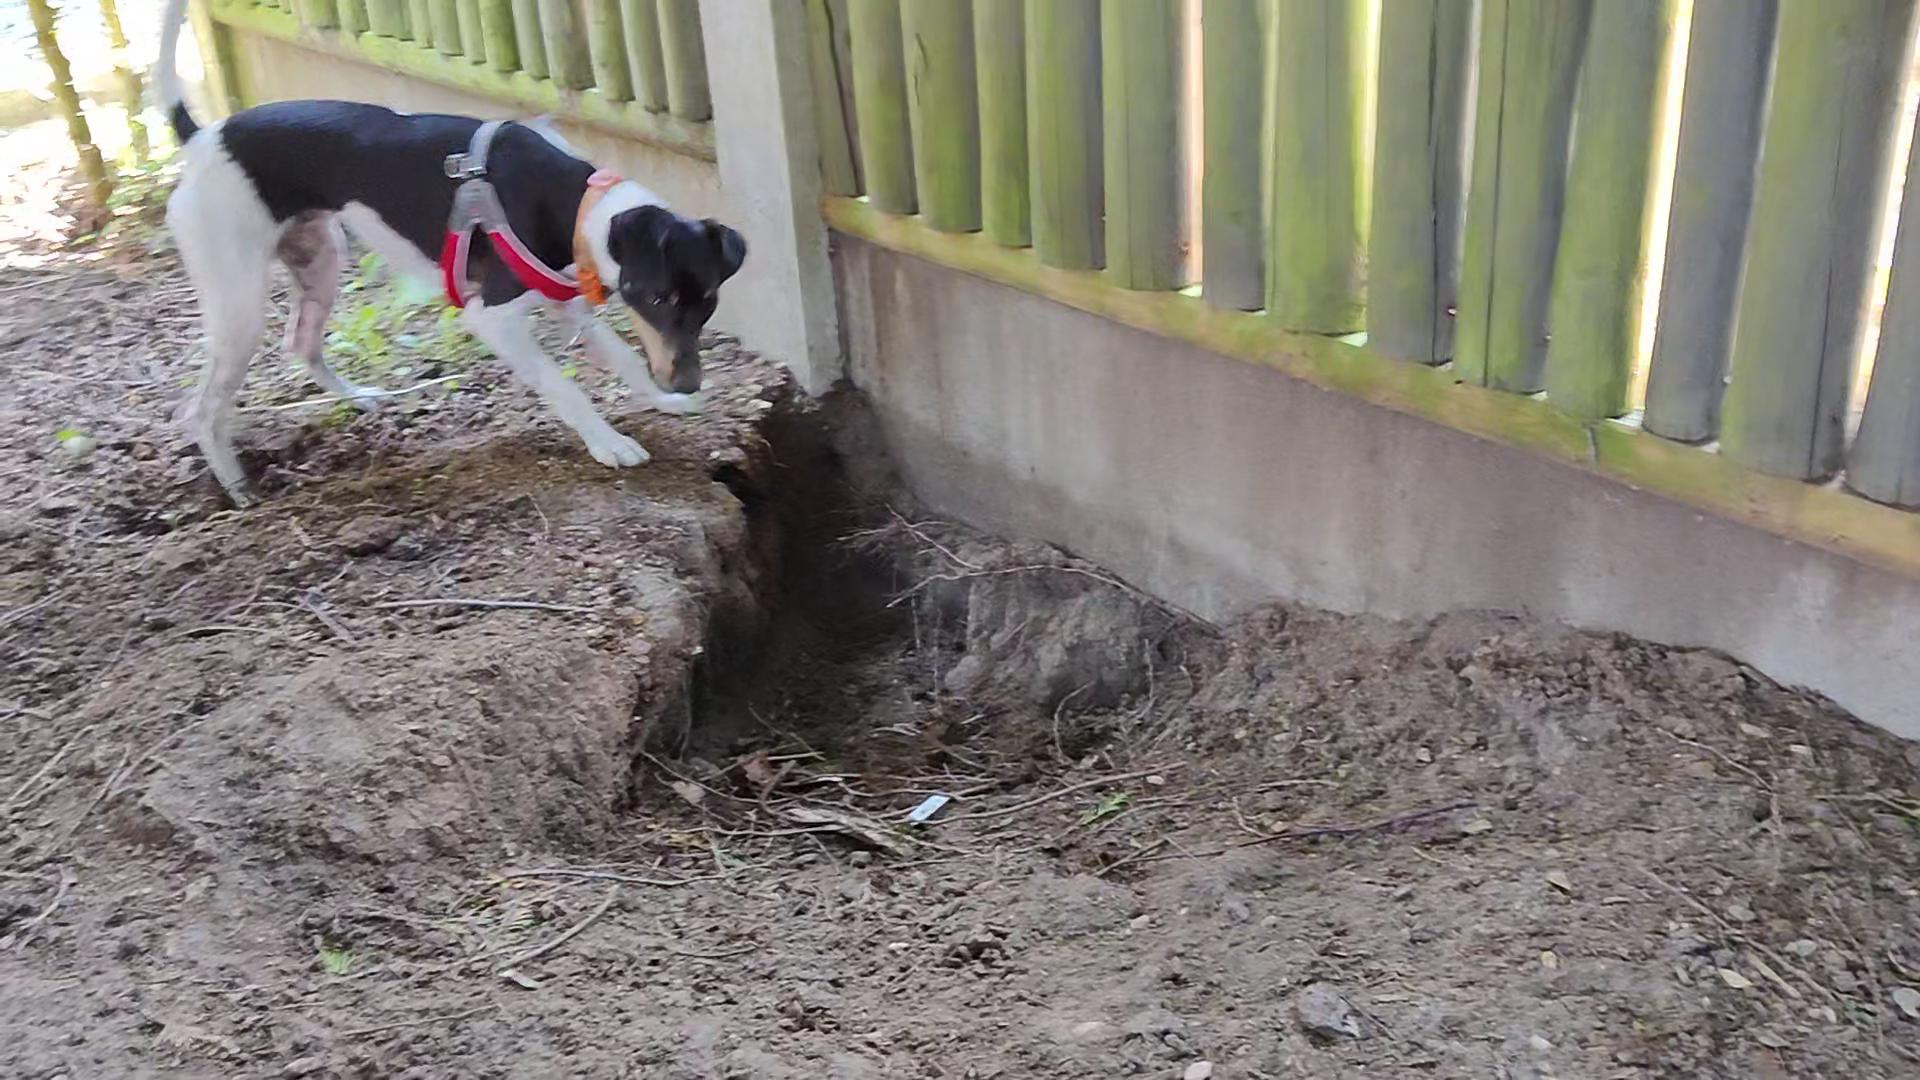Dog: (123, 0, 754, 514)
